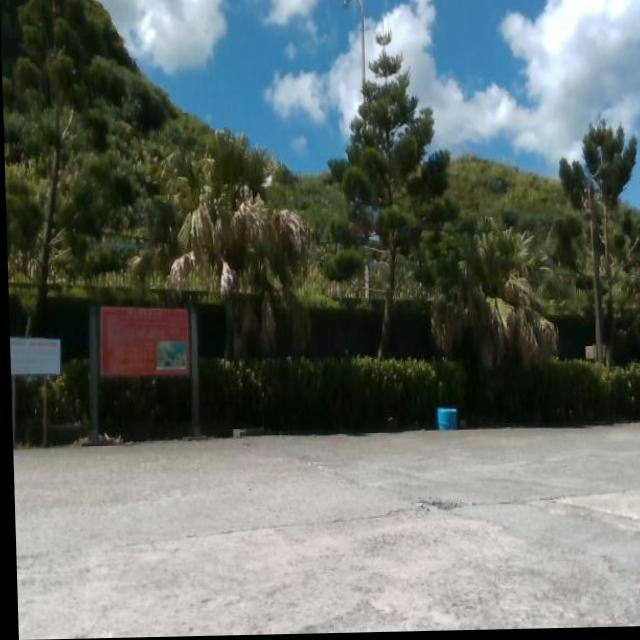pollute: (432, 408, 456, 435)
